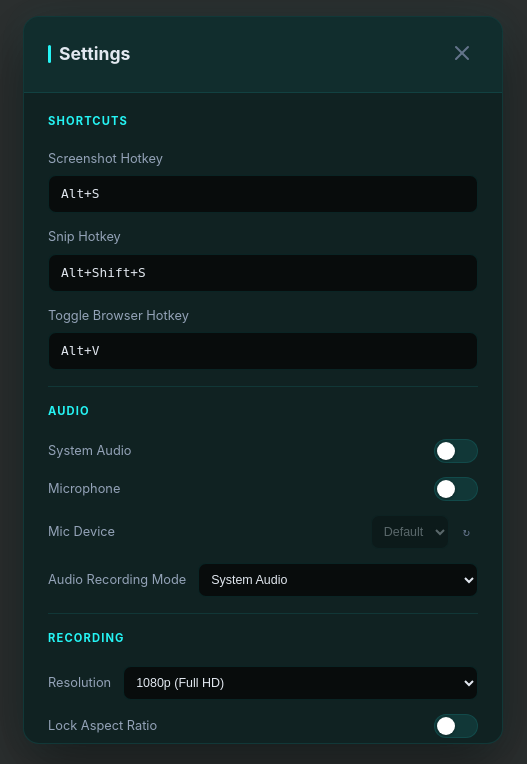
Settings › shows error on hotkey conflict
Click to record new snip hotkey
Click the text "Alt+Shift+S". click: click(263, 273)
box: [48,254,478,292]
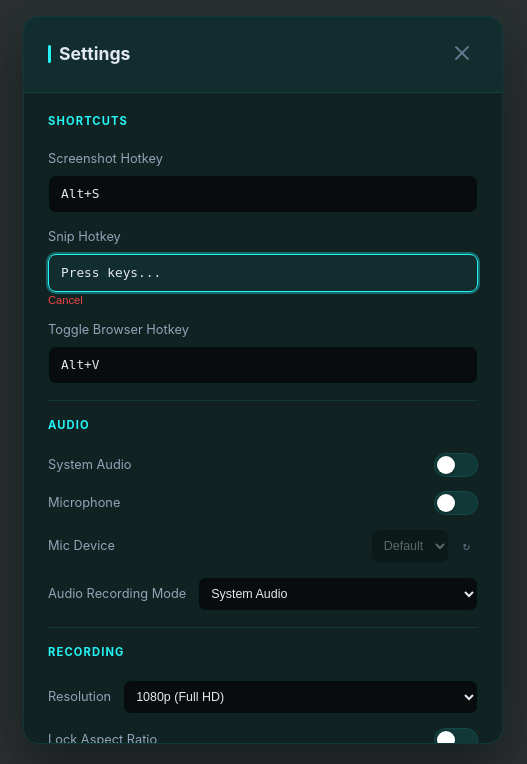
Press Alt+S (conflict with screenshot)
Press S in the text "Alt+Shift+S", box [48,254,478,292]
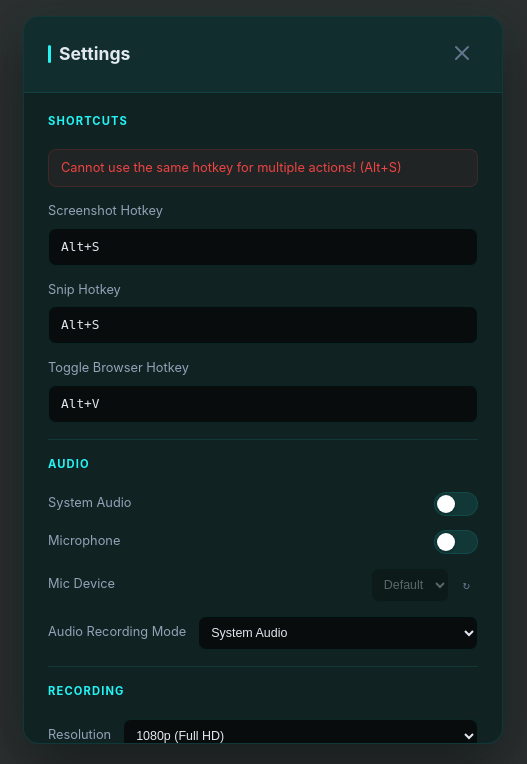
Now the text "Cannot use the same hotkey for multiple actions! (Alt+S)" is shown, box [48,149,478,187]
